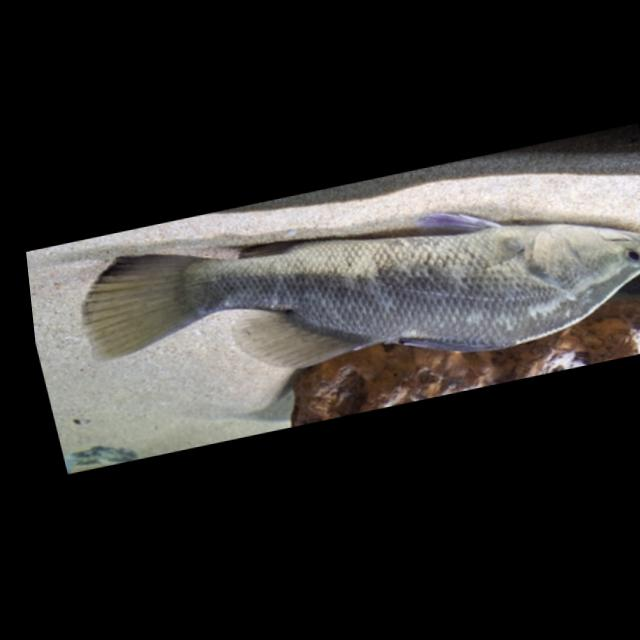Seabass: (60, 145, 640, 435)
